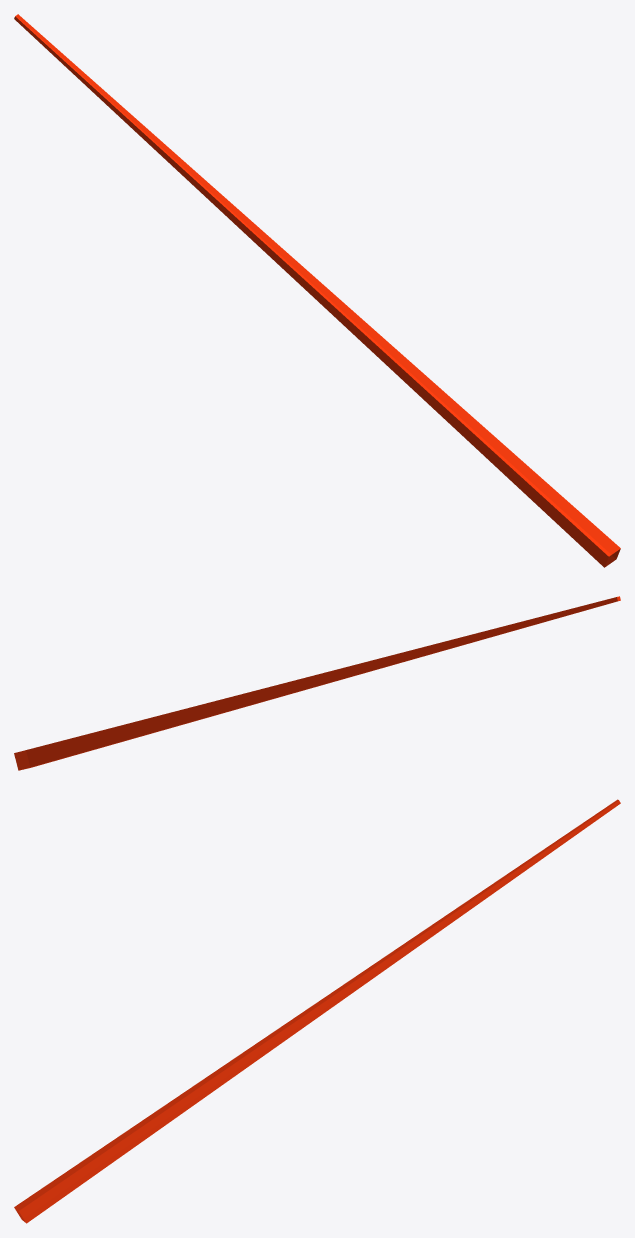
Rendered from Event_421556567_EBrechit_10.fbx.
3 renders of one model, top to bottom at view 1: azimuth 30°, elevation 25°; view 2: azimuth 210°, elevation 25°; view 3: azimuth 270°, elevation 25°, orthographic. The views are drawn at different scales.
Visible parts, largest first — view 1: Model; view 2: Model; view 3: Model.
Boxes of the visible parts, bbox=[...] form: Model: bbox=[14, 14, 620, 567]; Model: bbox=[14, 596, 620, 770]; Model: bbox=[14, 799, 620, 1223].
Bounding box in the file's own units: 3.8 × 5.01 × 8.73.
